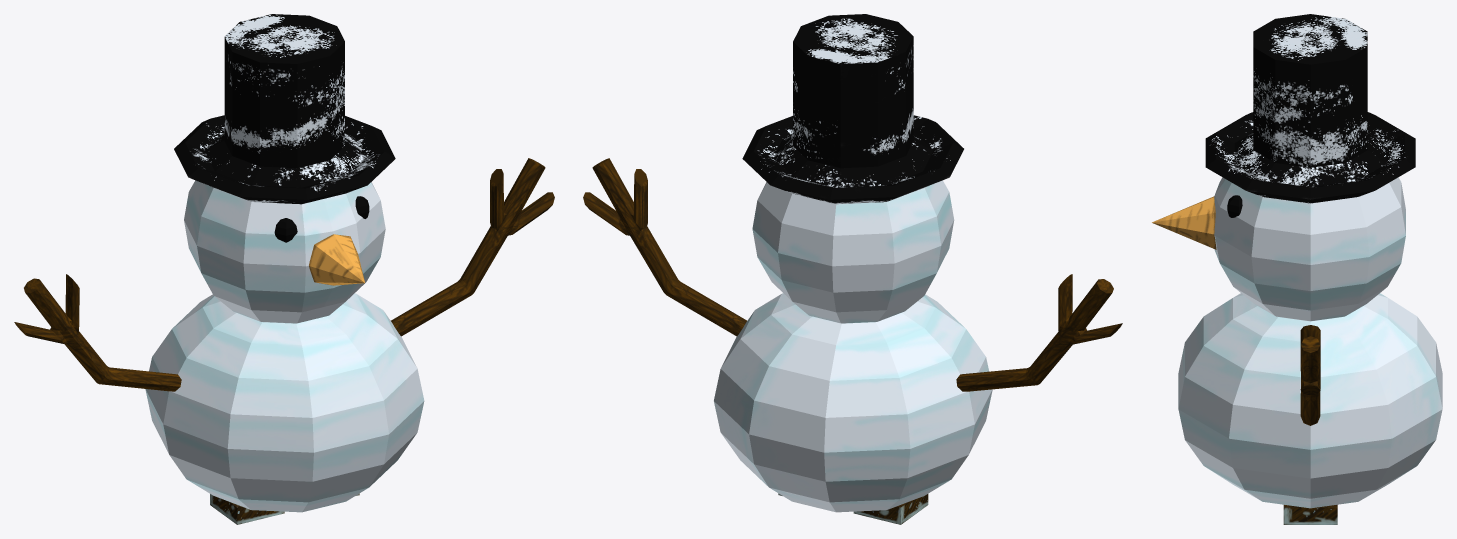
File: Snowman.fbx
3 views of the same model, side by side, from view 1: azimuth 30°, elevation 25°; view 2: azimuth 150°, elevation 25°; view 3: azimuth 270°, elevation 25° (orthographic).
Parts seen in each view (by area): view 1: pCube5; view 2: pCube5; view 3: pCube5.
Part boxes in pixels (x1,y1,x2,y2): pCube5: (14, 14, 554, 524); pCube5: (583, 14, 1122, 524); pCube5: (1152, 14, 1442, 524).
Bounding box in the file's own units: 5.38 × 4.42 × 2.56.
